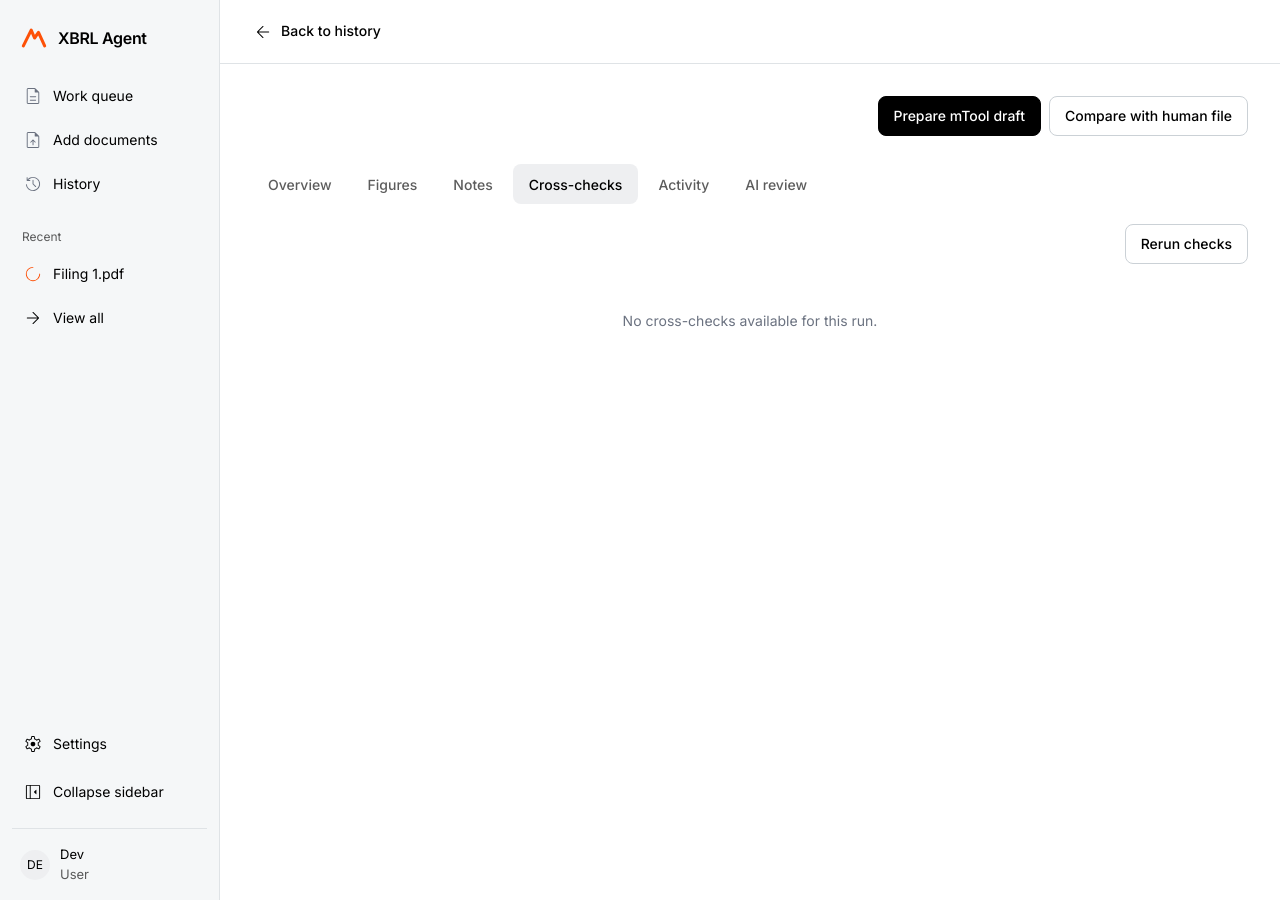
Test case: App routing › sidebar caps documents at three and keeps View all visible with 1 queued documents
Expected: the number of buttons named "Open " is 1, x1=12 y1=254 x2=207 y2=294
Click the button with aria-label "View all documents" at coordinates (110, 318), box x1=12 y1=298 x2=207 y2=338
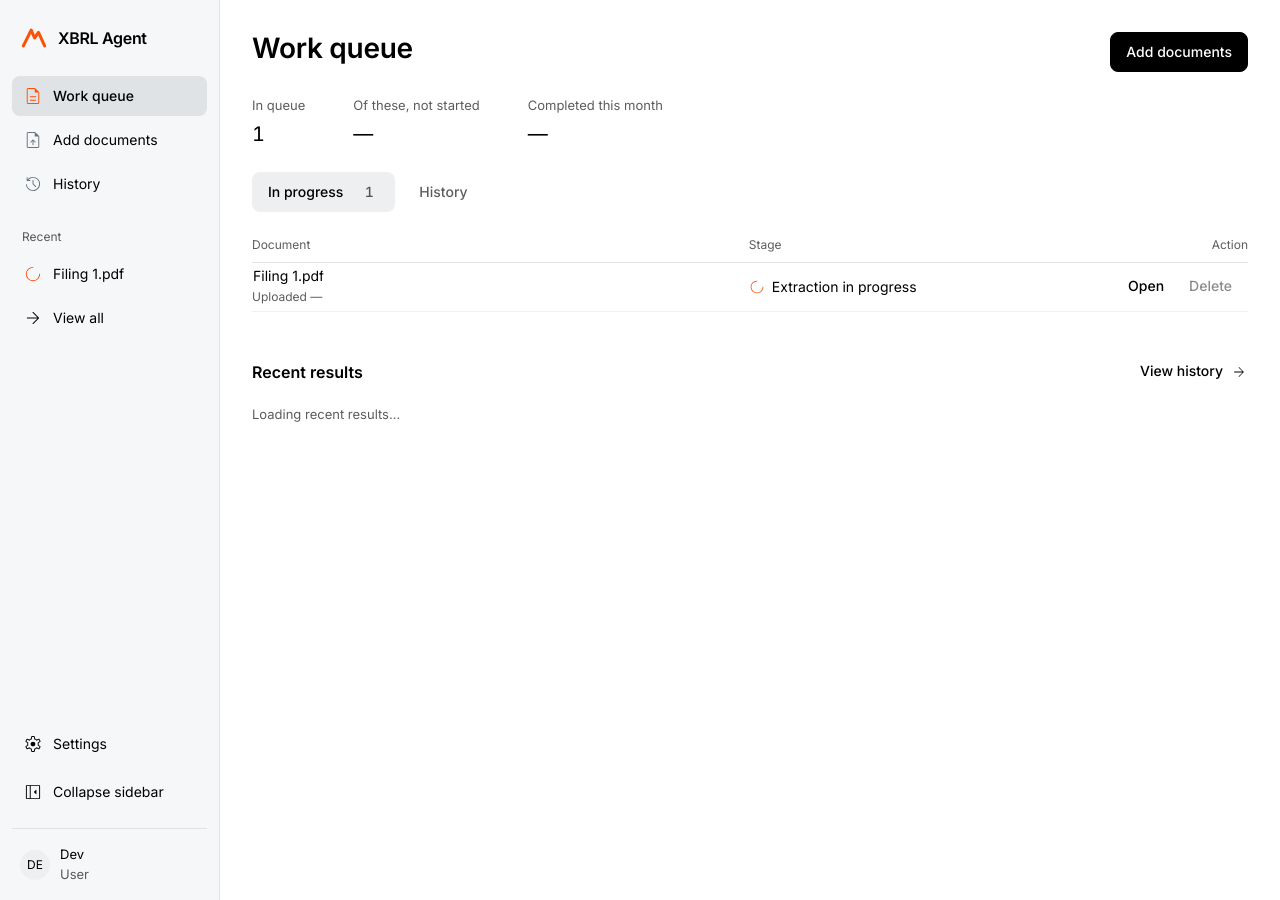
Expected: the buttons "Open " read "Filing 1.pdf", in this order, x1=12 y1=254 x2=207 y2=294
Expected: the button "Filing 1.pdf" in the row of "Extraction in progress" is shown, x1=252 y1=267 x2=325 y2=285
